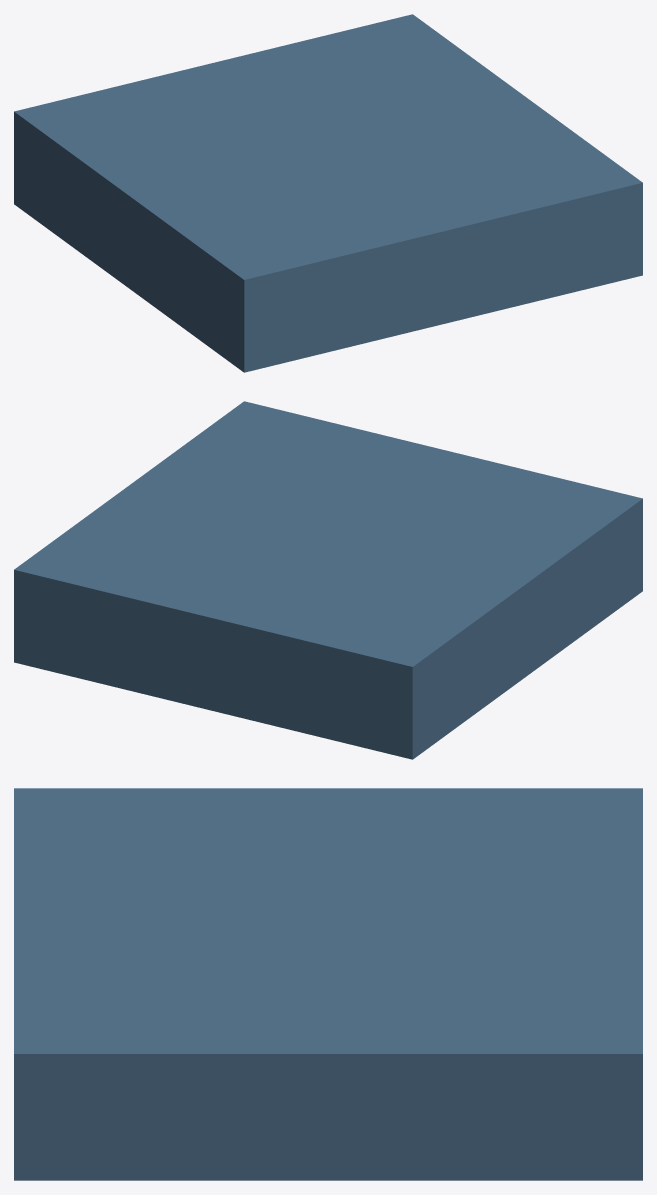
The model's file is link-linkedin.glb.
3 renders of one model, top to bottom at view 1: azimuth 30°, elevation 25°; view 2: azimuth 150°, elevation 25°; view 3: azimuth 270°, elevation 25°, orthographic. The views are drawn at different scales.
Visible parts, largest first — view 1: cel_blue_link linkedin.001; view 2: cel_blue_link linkedin.001; view 3: cel_blue_link linkedin.001.
Part boxes in pixels (x1,y1,x2,y2): cel_blue_link linkedin.001: (14,14,642,372); cel_blue_link linkedin.001: (14,401,642,759); cel_blue_link linkedin.001: (14,788,642,1180).
Bounding box in the file's own units: 1.8 × 0.545 × 1.8.
